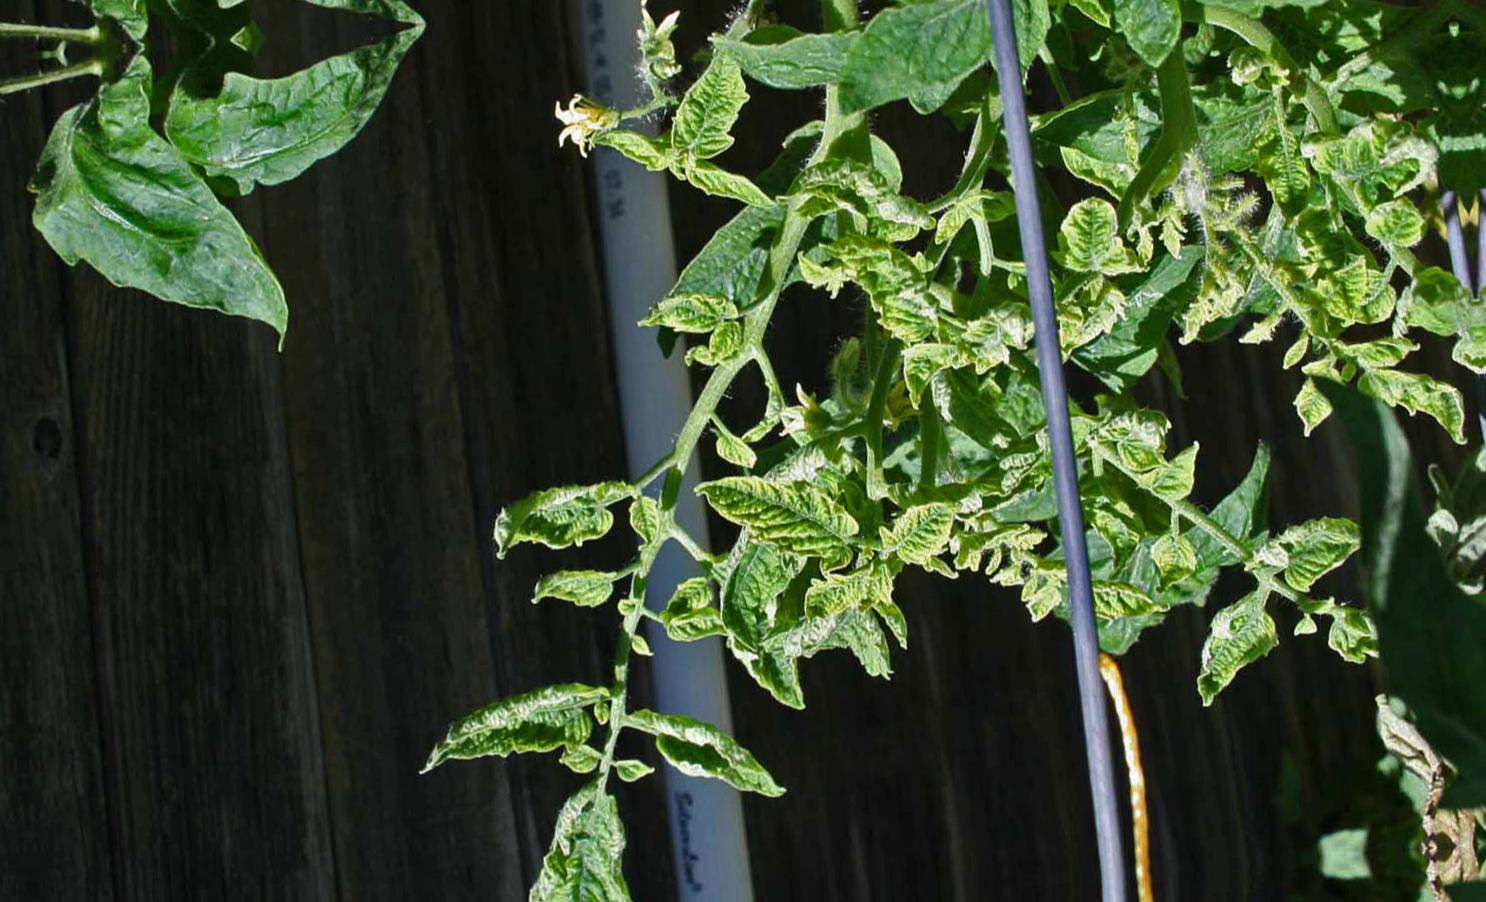Tomato leaf yellow virus: (810, 0, 1054, 129), (824, 225, 993, 409), (385, 659, 626, 787), (450, 454, 655, 569), (696, 452, 879, 574), (1096, 0, 1434, 59), (634, 44, 775, 185), (1347, 344, 1474, 473), (522, 781, 646, 902), (1176, 586, 1283, 713), (1292, 114, 1434, 207), (610, 280, 748, 369), (862, 481, 978, 580), (783, 552, 906, 639), (1047, 181, 1142, 285), (1294, 254, 1402, 340), (1264, 504, 1368, 591), (509, 556, 626, 625), (1347, 185, 1429, 251)
